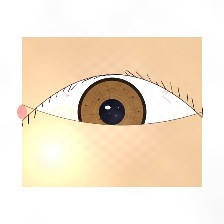pinguecula_lesion: (37, 93, 88, 134)
